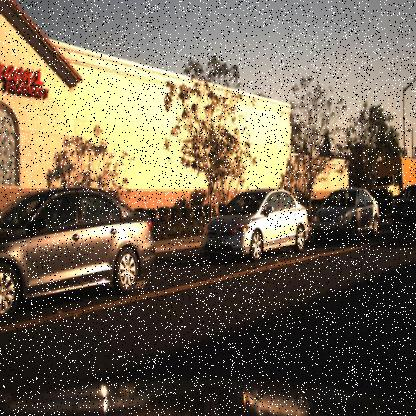car: (0, 186, 159, 320), (194, 188, 309, 263), (202, 185, 308, 262), (308, 186, 381, 245), (389, 184, 415, 234)
truck: (375, 154, 415, 216)
